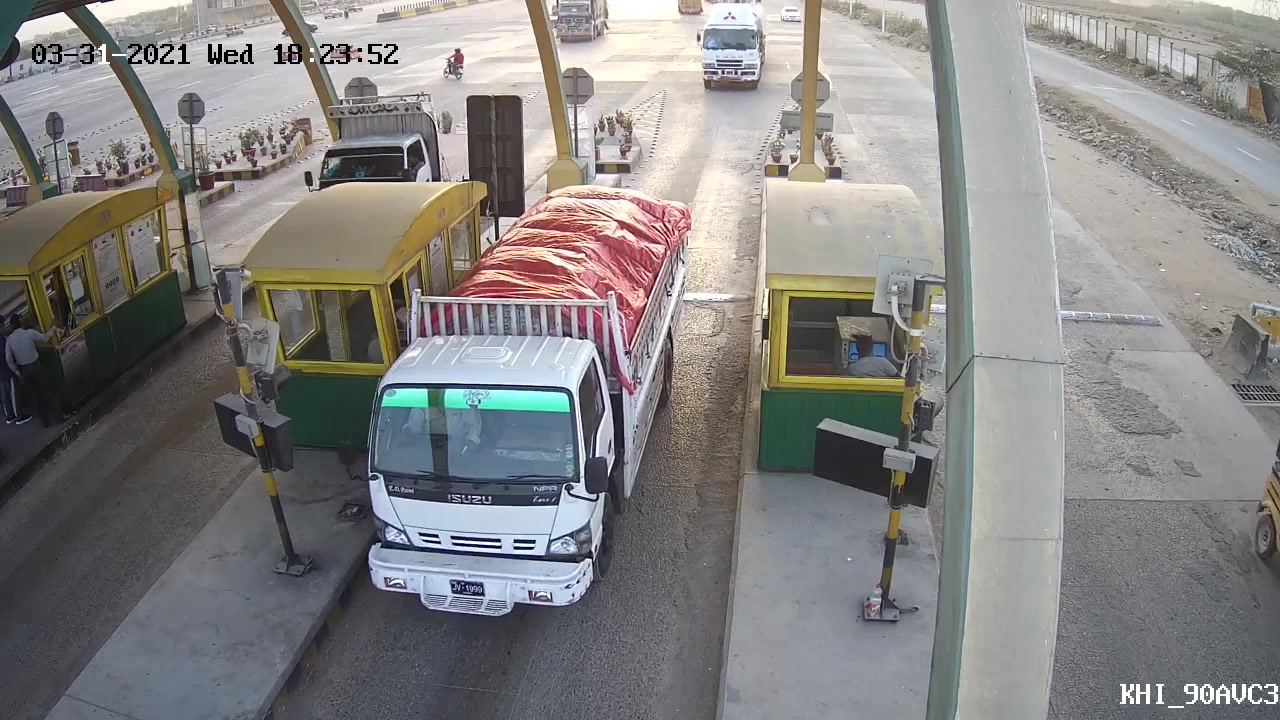F3: (332, 185, 699, 621)
